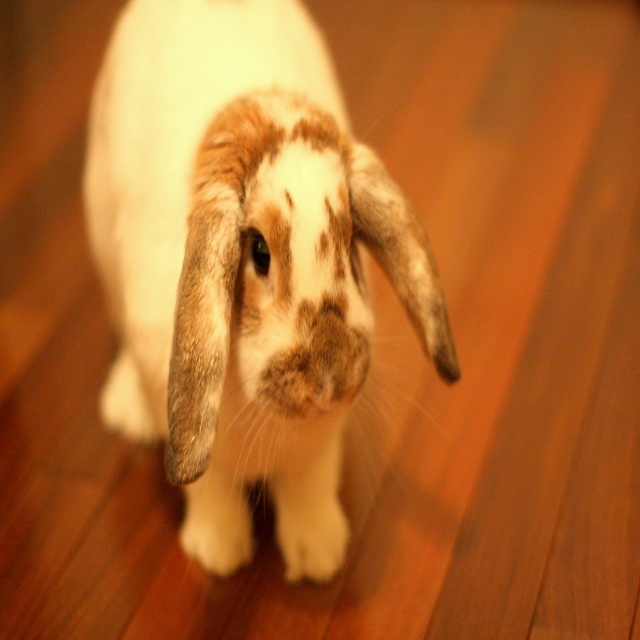Rabbit: (78, 2, 466, 582)
